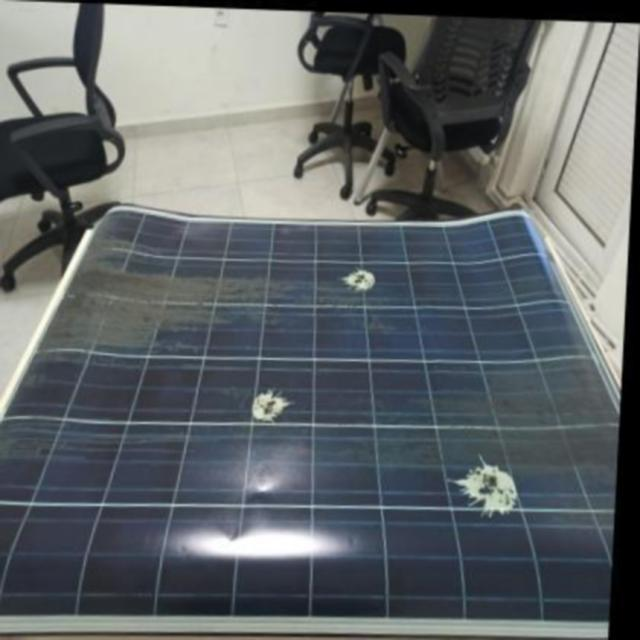soiled: (3, 206, 608, 637)
